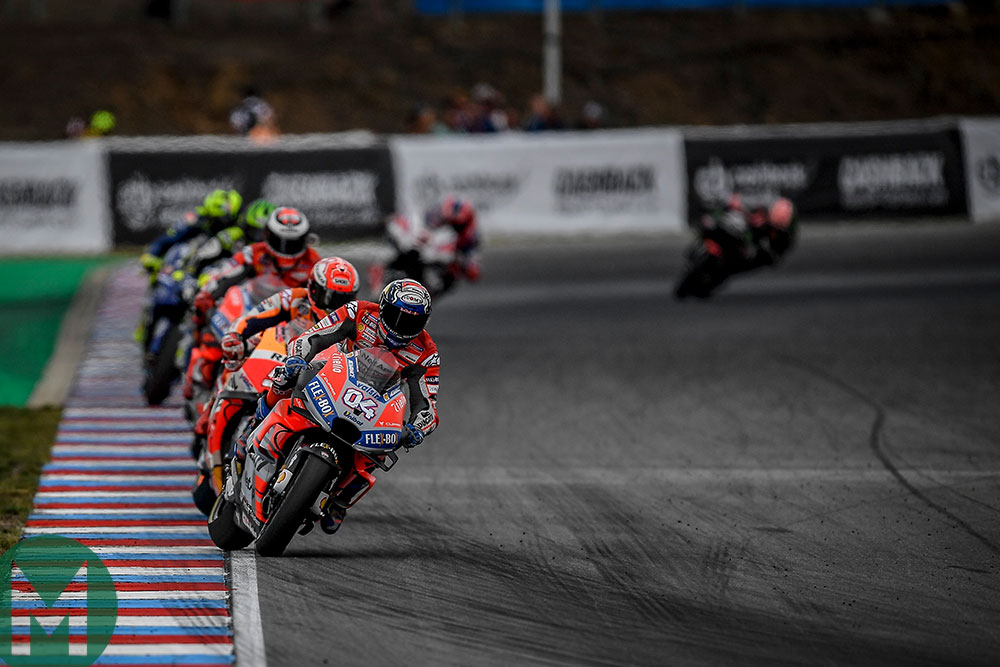helmet: (373, 267, 431, 354), (303, 251, 366, 326), (256, 202, 309, 270)
